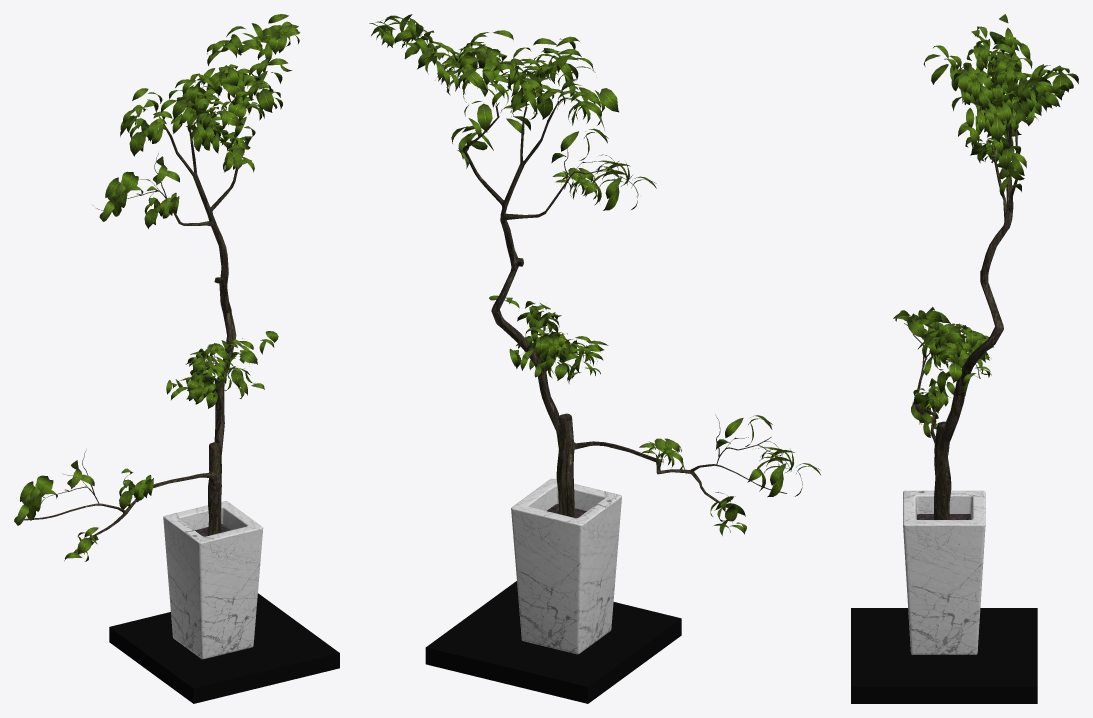
3 renders of one model, left to right at view 1: azimuth 30°, elevation 25°; view 2: azimuth 150°, elevation 25°; view 3: azimuth 270°, elevation 25°, orthographic. The views are drawn at different scales.
Parts seen in each view (by area): view 1: Component46_1, Component48_1, Component44_1, Component55_1, Component50_1, Component52_1, Component51_1; view 2: Component46_1, Component44_1, Component48_1, Component55_1, Component50_1, Component52_1, Component51_1; view 3: Component44_1, Component46_1, Component48_1, Component55_1, Component52_1, Component50_1, Component51_1, Component54_1.
Boxes of the visible parts, x1,y1,x2,y2 form: Component46_1: [163, 501, 263, 659]; Component48_1: [119, 14, 300, 509]; Component44_1: [109, 593, 339, 703]; Component55_1: [24, 116, 238, 538]; Component50_1: [14, 156, 179, 525]; Component52_1: [185, 331, 278, 398]; Component51_1: [166, 344, 230, 408]; Component46_1: [511, 478, 621, 654]; Component44_1: [425, 581, 681, 703]; Component48_1: [369, 14, 686, 473]; Component55_1: [462, 101, 786, 517]; Component50_1: [551, 128, 820, 497]; Component52_1: [489, 295, 565, 370]; Component51_1: [524, 325, 608, 383]; Component44_1: [851, 608, 1037, 703]; Component46_1: [903, 490, 985, 654]; Component48_1: [912, 14, 1078, 413]; Component55_1: [915, 109, 1017, 519]; Component52_1: [917, 323, 991, 397]; Component50_1: [893, 94, 1037, 359]; Component51_1: [926, 327, 993, 380]; Component54_1: [911, 402, 936, 437].
Bounding box in the file's own units: 468 × 757 × 244.
5 materials, 5 textured.
